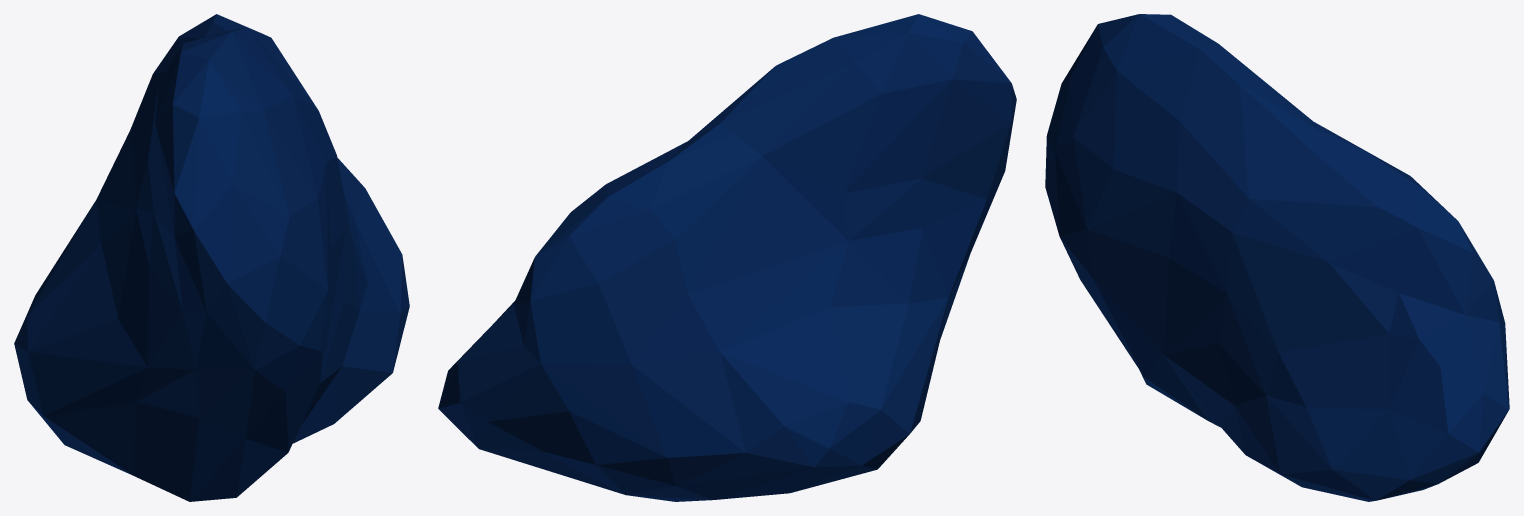
File: Cave_stone_16.glb
3 renders of one model, left to right at view 1: azimuth 30°, elevation 25°; view 2: azimuth 150°, elevation 25°; view 3: azimuth 270°, elevation 25°, orthographic. The views are drawn at different scales.
Parts seen in each view (by area): view 1: Cave_stone_16; view 2: Cave_stone_16; view 3: Cave_stone_16.
Boxes of the visible parts, x1=… form: Cave_stone_16: x1=14, y1=14, x2=409, y2=501; Cave_stone_16: x1=438, y1=14, x2=1016, y2=501; Cave_stone_16: x1=1045, y1=14, x2=1509, y2=501.
Bounding box in the file's own units: 3.22 × 3.41 × 3.68.
